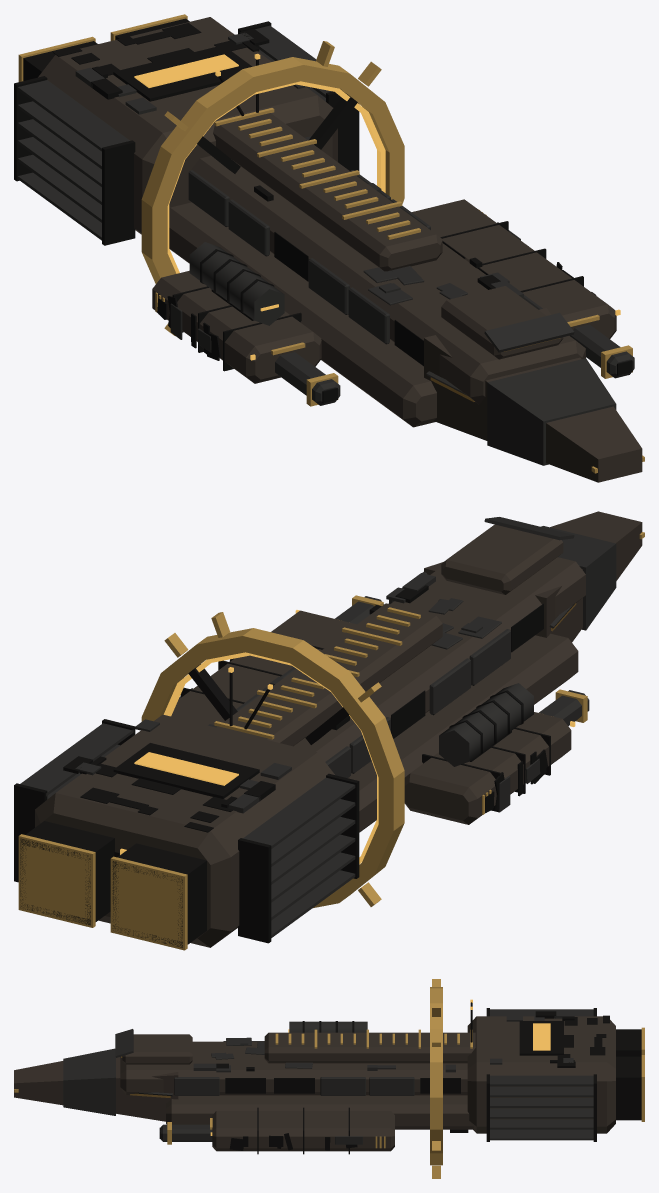
File: goniec-wybudzeni-coalition-58-lod0.glb
The picture shows the model from 3 angles, top to bottom: view 1: azimuth 30°, elevation 25°; view 2: azimuth 150°, elevation 25°; view 3: azimuth 270°, elevation 25°; orthographic projection. The views are drawn at different scales.
Bounding box in the file's own units: 5.12 × 4.22 × 13.94.
